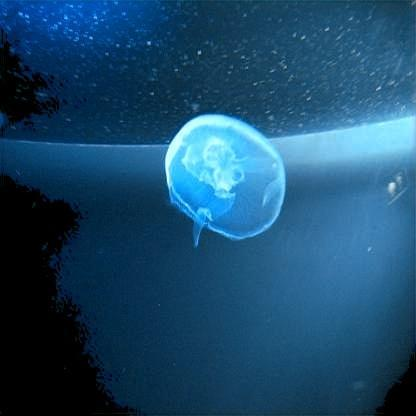Speckle: (166, 113, 284, 247)
